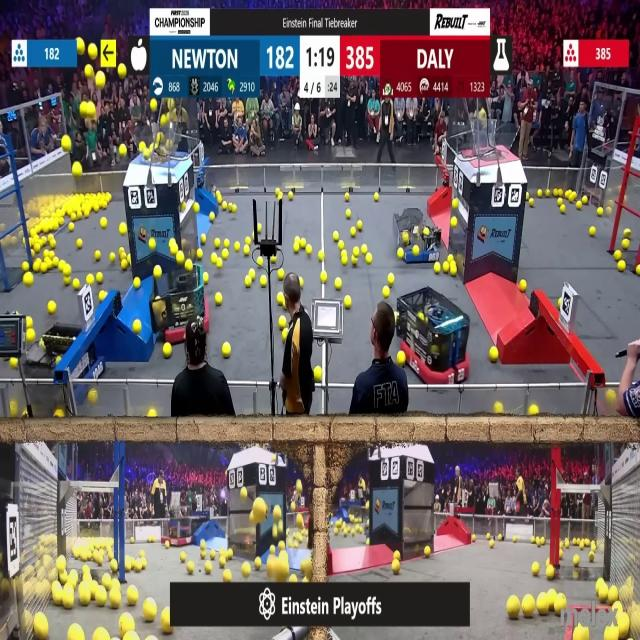ball_airborne: (252, 498, 266, 522), (96, 72, 106, 88), (62, 136, 72, 151), (89, 43, 99, 57), (73, 163, 82, 178), (274, 507, 283, 522), (77, 39, 85, 54), (88, 102, 96, 116), (117, 65, 125, 79), (86, 66, 95, 78), (118, 144, 125, 157), (295, 515, 302, 528), (80, 102, 86, 116), (295, 481, 301, 494), (241, 488, 248, 499), (249, 512, 255, 524), (150, 100, 156, 111), (140, 142, 146, 152), (162, 114, 168, 124), (168, 112, 173, 123), (144, 149, 150, 158), (155, 134, 161, 143), (290, 502, 296, 511), (481, 110, 486, 120), (153, 143, 159, 151)
ball_ground: (508, 596, 522, 619), (119, 616, 133, 636), (162, 611, 173, 635), (523, 597, 535, 619), (144, 603, 156, 623), (109, 591, 121, 609), (554, 596, 566, 614), (536, 598, 548, 616), (128, 587, 139, 606), (69, 626, 83, 640), (97, 590, 107, 608), (596, 582, 605, 602), (573, 628, 587, 640), (64, 594, 74, 610), (80, 588, 90, 604), (608, 588, 618, 604), (24, 273, 34, 287), (54, 590, 64, 604), (221, 343, 230, 358), (490, 348, 499, 362), (314, 366, 323, 380), (164, 344, 172, 359), (96, 630, 108, 640), (243, 563, 251, 577), (545, 566, 553, 580), (9, 405, 17, 419), (222, 569, 231, 581), (494, 404, 503, 416), (606, 390, 615, 402), (48, 302, 56, 315), (392, 561, 400, 574), (450, 265, 458, 278), (27, 328, 35, 341), (90, 390, 98, 403), (532, 562, 539, 576), (397, 352, 404, 366), (171, 242, 178, 256), (278, 316, 286, 328), (186, 562, 194, 574), (153, 267, 161, 279), (103, 574, 111, 586), (345, 295, 352, 308), (134, 321, 141, 334), (205, 561, 212, 574), (530, 407, 538, 418), (176, 252, 184, 263), (110, 561, 118, 572), (434, 264, 441, 276), (215, 292, 222, 304), (320, 272, 327, 284), (424, 544, 431, 556), (118, 222, 125, 234), (277, 292, 284, 304), (123, 560, 130, 572), (56, 411, 65, 420), (356, 220, 364, 230), (140, 560, 148, 570), (255, 558, 261, 571), (619, 262, 626, 273), (383, 286, 390, 297), (10, 357, 17, 368), (27, 317, 34, 328), (259, 276, 266, 287), (73, 279, 80, 290), (23, 263, 30, 274), (342, 254, 349, 265), (64, 266, 71, 277), (520, 280, 526, 292), (336, 278, 342, 290), (388, 274, 394, 286), (397, 248, 403, 260), (148, 411, 156, 420), (131, 560, 137, 572), (97, 274, 104, 284), (444, 264, 451, 274), (616, 250, 623, 260), (623, 240, 630, 250), (185, 262, 192, 272), (64, 277, 71, 287), (99, 290, 106, 300), (452, 200, 459, 210), (88, 276, 95, 286), (331, 232, 338, 242), (569, 191, 576, 201), (43, 248, 50, 258), (61, 572, 68, 582), (452, 216, 458, 227), (204, 273, 210, 284), (278, 270, 284, 281), (134, 278, 140, 289), (219, 557, 225, 568), (222, 249, 228, 260), (243, 277, 249, 288), (34, 263, 40, 274), (318, 250, 324, 261), (281, 329, 287, 340), (127, 634, 138, 640), (211, 253, 218, 262), (40, 265, 47, 274), (195, 249, 201, 259), (365, 254, 371, 264), (236, 242, 242, 252), (120, 262, 126, 272), (352, 255, 358, 265), (76, 239, 82, 249), (95, 250, 101, 260), (110, 252, 116, 262), (293, 242, 299, 252), (180, 553, 186, 563), (249, 270, 255, 280), (101, 218, 107, 228), (572, 556, 578, 566), (226, 550, 232, 560), (299, 238, 305, 248), (216, 191, 221, 203), (108, 550, 114, 560), (54, 259, 60, 269), (589, 553, 595, 563), (221, 202, 227, 212), (624, 230, 631, 238), (596, 208, 603, 216), (245, 237, 252, 245), (244, 246, 250, 255), (394, 552, 400, 561), (307, 246, 313, 255), (214, 239, 220, 248), (68, 222, 74, 231), (353, 247, 359, 256), (339, 241, 345, 250), (216, 261, 222, 270), (372, 194, 378, 203), (590, 226, 596, 235), (201, 551, 207, 560), (32, 241, 38, 250), (279, 540, 285, 549), (271, 544, 277, 553), (257, 256, 262, 266), (361, 245, 366, 255), (82, 210, 89, 217), (346, 210, 352, 218), (560, 206, 566, 214), (575, 202, 581, 210), (290, 574, 296, 582), (106, 192, 112, 200), (557, 199, 563, 207), (578, 541, 584, 549), (102, 202, 108, 210), (210, 212, 215, 221), (351, 229, 356, 238), (49, 240, 54, 249), (193, 204, 198, 213), (119, 248, 124, 257), (71, 212, 76, 221), (232, 204, 237, 213), (165, 541, 171, 548), (365, 538, 371, 545), (554, 188, 560, 195), (299, 278, 303, 288), (223, 240, 228, 248), (636, 266, 640, 276), (202, 235, 206, 245), (211, 552, 216, 560), (345, 192, 350, 200), (256, 223, 261, 231), (529, 200, 534, 208), (449, 254, 454, 262), (288, 191, 293, 199), (544, 188, 549, 196), (559, 552, 564, 560), (304, 576, 310, 582), (148, 536, 154, 542), (272, 255, 277, 262), (537, 189, 542, 196), (584, 198, 589, 205), (140, 551, 145, 558), (525, 191, 530, 198), (474, 537, 478, 545), (202, 540, 206, 548), (279, 194, 283, 202), (471, 534, 475, 541), (498, 534, 502, 541), (487, 535, 491, 542), (490, 540, 494, 547), (132, 536, 136, 543), (545, 559, 549, 566), (514, 536, 518, 542)
goal: (464, 121, 521, 160), (128, 126, 187, 160)
robot_blue: (23, 317, 106, 402), (396, 212, 443, 267)
robot_red: (399, 290, 470, 386), (152, 270, 212, 344), (162, 516, 192, 546)
